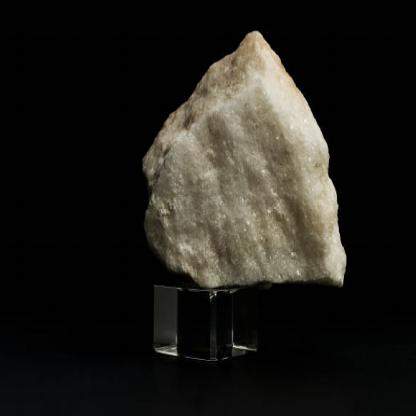Sedimentary_Limestone: (151, 11, 350, 295)
